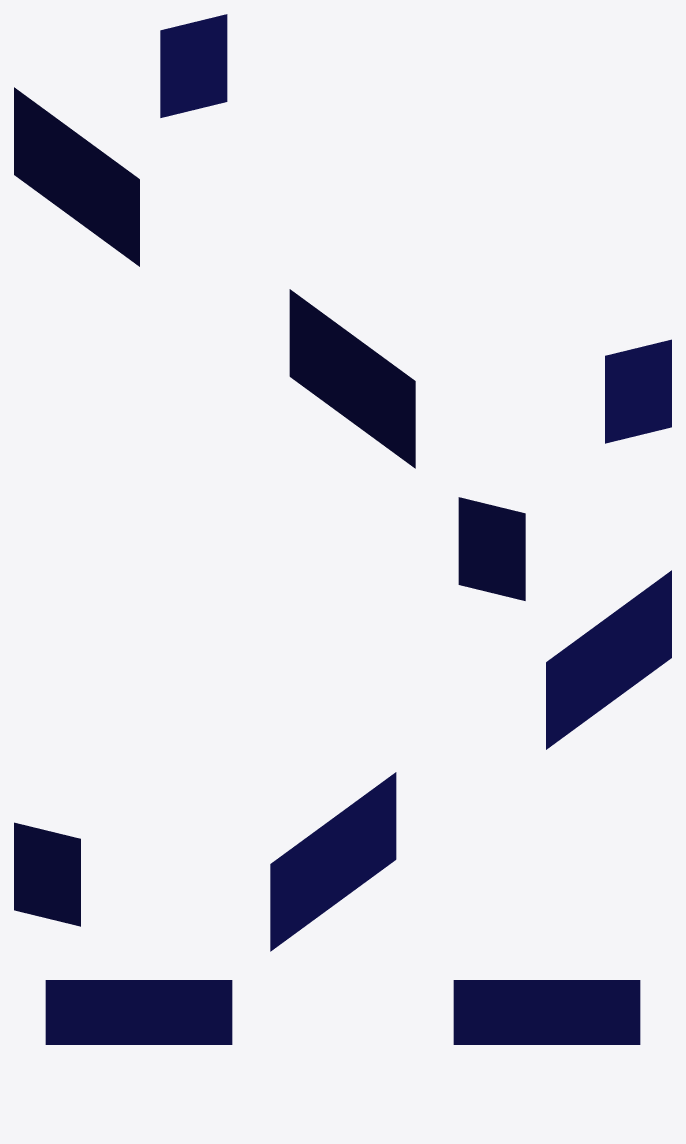
Rendered from steklo_skaff.FBX.
The picture shows the model from 3 angles, top to bottom: view 1: azimuth 30°, elevation 25°; view 2: azimuth 150°, elevation 25°; view 3: azimuth 270°, elevation 25°; orthographic projection. The views are drawn at different scales.
Visible parts, largest first — view 1: stekla_operacionny; view 2: stekla_operacionny; view 3: stekla_operacionny.
Boxes of the visible parts, x1,y1,x2,y2 form: stekla_operacionny: (14,14,671,468); stekla_operacionny: (14,497,671,951); stekla_operacionny: (45,980,640,1044).
Bounding box in the file's own units: 163 × 58.42 × 536.
